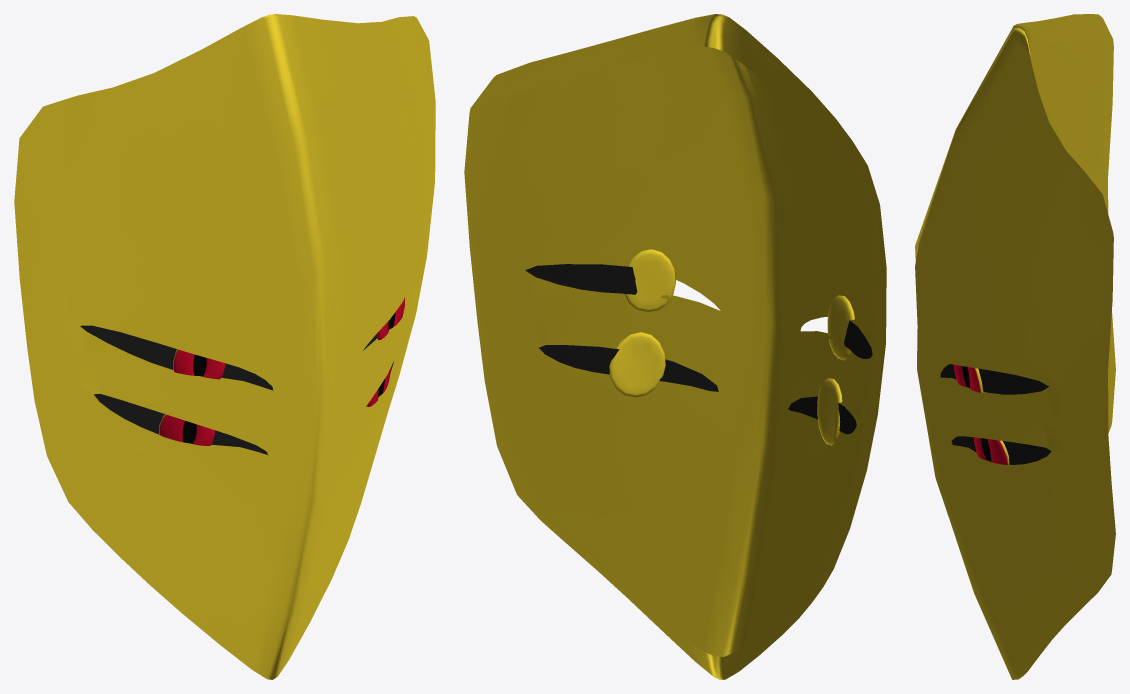
The model's file is Mask_Final.fbx.
3 views of the same model, side by side, from view 1: azimuth 30°, elevation 25°; view 2: azimuth 150°, elevation 25°; view 3: azimuth 270°, elevation 25° (orthographic). The views are drawn at different scales.
Visible parts, largest first — view 1: mask; view 2: mask; view 3: mask.
Part boxes in pixels (x1=…): mask: x1=14, y1=14, x2=435, y2=679; mask: x1=464, y1=14, x2=886, y2=679; mask: x1=915, y1=14, x2=1115, y2=679.
Bounding box in the file's own units: 72.49 × 110 × 30.76.
2 materials, 1 textured.
